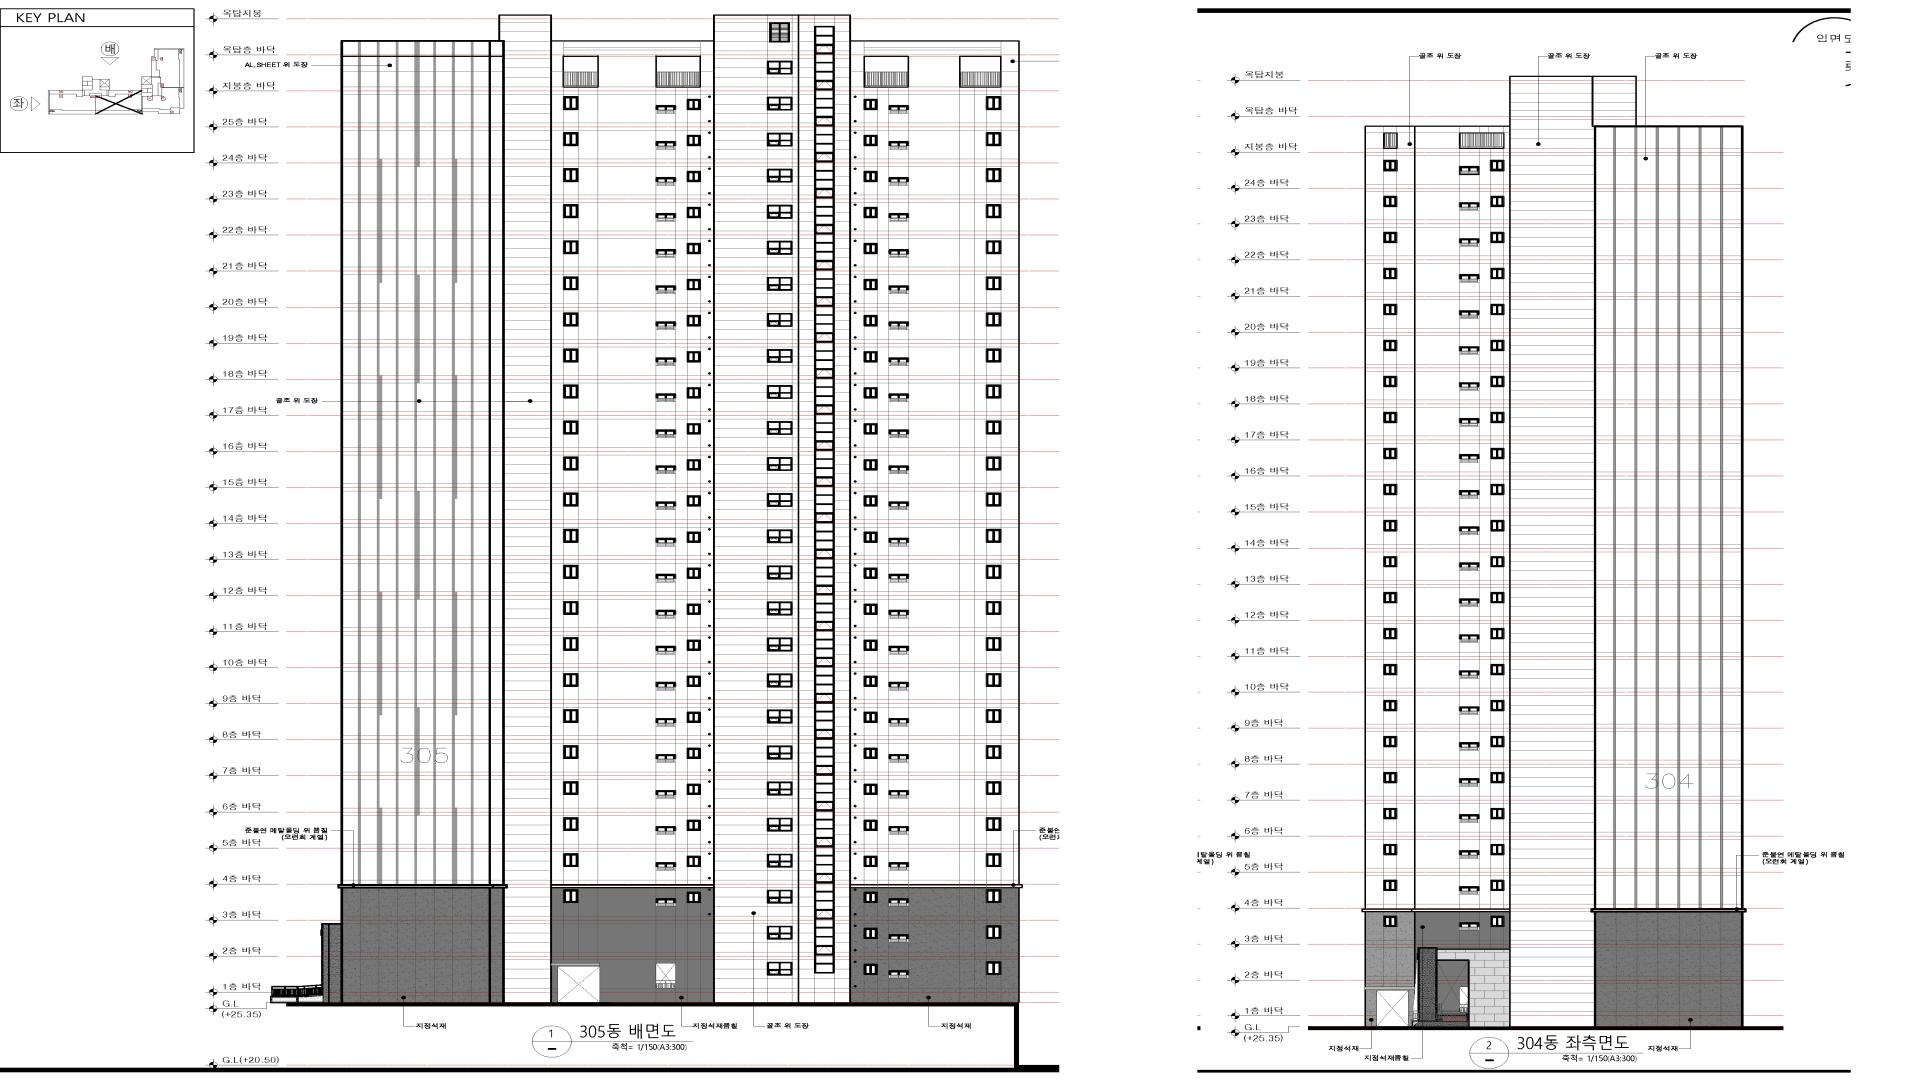door: (1437, 960, 1469, 1015), (558, 967, 600, 1002), (1377, 990, 1408, 1026)
wall: (322, 15, 1019, 1006), (1365, 75, 1743, 1030)
window: (655, 55, 702, 87), (864, 55, 910, 87), (959, 55, 1002, 87), (814, 918, 835, 973), (563, 55, 599, 87), (814, 269, 835, 306), (814, 522, 835, 559), (814, 54, 835, 90), (814, 90, 835, 125), (814, 125, 835, 161), (814, 198, 835, 233), (814, 233, 835, 269), (814, 306, 835, 342), (814, 342, 835, 377), (814, 377, 835, 413), (814, 414, 835, 450), (814, 450, 835, 485), (814, 559, 835, 595), (814, 595, 835, 630), (814, 630, 835, 666), (814, 666, 835, 702), (814, 703, 835, 738), (814, 810, 835, 845), (815, 485, 835, 522), (815, 161, 835, 196), (815, 738, 835, 774), (815, 774, 835, 810), (815, 847, 835, 882), (815, 882, 835, 918), (814, 26, 835, 53), (655, 964, 676, 988), (769, 22, 790, 42), (766, 926, 793, 940), (766, 709, 793, 724), (766, 601, 793, 616), (766, 96, 793, 111), (767, 961, 793, 976), (767, 853, 793, 868), (767, 818, 793, 832), (767, 421, 793, 435), (767, 313, 793, 327), (767, 204, 793, 219), (766, 890, 793, 903), (766, 782, 793, 795), (766, 746, 793, 760), (766, 674, 793, 687), (766, 566, 793, 579), (766, 493, 793, 506), (766, 458, 793, 471), (766, 133, 793, 146), (766, 61, 793, 74), (767, 638, 793, 651), (767, 530, 793, 543), (767, 385, 793, 398), (767, 349, 793, 363), (767, 277, 793, 290), (767, 241, 793, 255), (767, 169, 793, 182), (985, 889, 1002, 903), (985, 745, 1002, 760), (563, 889, 579, 903), (563, 781, 579, 795), (563, 745, 579, 760), (563, 673, 579, 687), (563, 637, 579, 651), (563, 564, 579, 579), (563, 529, 579, 543), (563, 492, 579, 506), (563, 456, 579, 471), (563, 421, 579, 435), (563, 348, 579, 363), (563, 313, 579, 327), (563, 276, 579, 290), (563, 240, 579, 255), (563, 167, 579, 182), (563, 132, 579, 146), (985, 781, 1001, 795), (985, 673, 1001, 687), (985, 637, 1001, 651), (985, 564, 1001, 579), (986, 529, 1002, 543), (985, 456, 1001, 471), (986, 348, 1002, 363), (986, 240, 1002, 255), (985, 132, 1001, 146), (563, 853, 579, 866), (563, 818, 579, 831), (563, 709, 579, 723), (563, 601, 579, 615), (563, 385, 579, 398), (563, 204, 579, 218), (563, 96, 579, 109), (985, 961, 1001, 975), (985, 926, 1001, 939), (986, 853, 1002, 866), (985, 818, 1001, 831), (986, 709, 1002, 723), (986, 601, 1002, 615), (985, 493, 1001, 506), (986, 421, 1002, 434), (985, 385, 1001, 398), (986, 313, 1002, 326), (985, 277, 1001, 290), (986, 204, 1002, 218), (985, 169, 1001, 182), (986, 96, 1002, 109), (655, 825, 676, 835), (655, 609, 676, 618), (655, 501, 676, 510), (655, 393, 676, 402), (655, 285, 676, 294), (655, 177, 676, 186), (889, 825, 910, 835), (887, 285, 909, 294), (889, 212, 910, 222), (887, 177, 909, 186), (1458, 166, 1480, 175), (1458, 202, 1480, 211), (1458, 310, 1480, 319), (1458, 454, 1480, 463), (1458, 562, 1480, 571), (1458, 670, 1480, 679), (1458, 814, 1480, 823), (1458, 922, 1480, 931), (889, 934, 909, 943), (889, 790, 909, 799), (889, 717, 909, 727), (889, 609, 909, 618), (889, 501, 909, 510), (889, 393, 909, 402), (687, 891, 702, 903), (687, 856, 702, 868), (687, 783, 702, 795), (687, 567, 702, 579), (687, 531, 702, 543), (687, 495, 702, 506), (687, 459, 702, 471), (687, 423, 702, 435), (687, 351, 702, 363), (687, 315, 702, 327), (687, 278, 702, 290), (687, 243, 702, 255), (687, 135, 702, 146), (687, 99, 702, 111), (864, 927, 878, 939), (864, 856, 878, 868), (864, 819, 878, 831), (864, 783, 878, 795), (864, 748, 878, 760), (864, 675, 878, 687), (864, 640, 878, 651), (864, 567, 878, 579), (864, 531, 878, 543), (864, 459, 878, 471), (864, 423, 878, 435), (864, 351, 878, 363), (864, 315, 878, 327), (864, 278, 878, 290), (864, 243, 878, 255), (864, 207, 878, 219), (864, 135, 878, 146), (864, 99, 878, 111), (1383, 160, 1398, 171), (1383, 195, 1398, 207), (1383, 232, 1398, 244), (1383, 268, 1398, 280), (1383, 303, 1398, 315), (1383, 340, 1398, 352), (1383, 376, 1398, 388), (1383, 411, 1398, 423), (1383, 484, 1398, 496), (1383, 520, 1398, 531), (1383, 628, 1398, 640), (1383, 663, 1398, 675), (1383, 736, 1398, 748), (1383, 771, 1398, 783), (1383, 844, 1398, 856), (1383, 880, 1398, 891), (1383, 915, 1398, 927), (1490, 915, 1505, 927), (1490, 880, 1505, 891), (1490, 844, 1505, 856), (1490, 771, 1505, 783), (1490, 736, 1505, 748), (1490, 628, 1505, 640), (1490, 520, 1505, 531), (1490, 411, 1505, 423), (1490, 376, 1505, 388), (1490, 303, 1505, 315), (1490, 268, 1505, 280), (1490, 195, 1505, 207), (1490, 160, 1505, 171), (655, 898, 676, 906), (655, 862, 676, 870), (655, 790, 676, 798), (655, 754, 676, 762), (655, 719, 676, 727), (655, 682, 676, 690), (655, 646, 676, 654), (655, 574, 676, 582), (655, 538, 676, 546), (655, 465, 676, 473), (655, 430, 676, 438), (655, 357, 676, 365), (655, 322, 676, 330), (655, 249, 676, 257), (655, 214, 676, 222), (655, 141, 676, 149), (655, 105, 676, 113), (887, 971, 909, 978), (887, 682, 909, 690), (887, 105, 909, 113), (1458, 239, 1480, 247), (1458, 347, 1480, 355), (1458, 382, 1480, 390), (1458, 418, 1480, 426), (1458, 491, 1480, 498), (1458, 526, 1480, 534), (1458, 599, 1480, 607), (1458, 634, 1480, 642), (1458, 707, 1480, 715), (1458, 742, 1480, 750), (1458, 778, 1480, 786), (1458, 851, 1480, 858), (889, 898, 909, 906), (889, 862, 909, 870), (889, 754, 909, 762), (889, 646, 909, 654), (889, 574, 909, 582), (889, 538, 909, 546), (889, 465, 909, 473), (889, 430, 909, 438), (889, 357, 909, 365), (889, 322, 909, 330), (889, 249, 909, 257), (889, 141, 909, 149), (687, 748, 700, 760), (687, 675, 700, 687), (687, 640, 700, 651), (687, 170, 700, 182), (864, 891, 877, 903), (1460, 274, 1480, 282), (1460, 886, 1480, 894), (687, 604, 702, 615), (687, 388, 702, 398), (687, 207, 702, 218), (864, 964, 878, 975), (864, 712, 878, 723), (864, 604, 878, 615), (864, 496, 878, 506), (864, 388, 878, 398), (864, 171, 878, 182), (1383, 448, 1398, 459), (1383, 556, 1398, 567), (1383, 592, 1398, 603), (1383, 700, 1398, 711), (1383, 808, 1398, 819), (1490, 808, 1505, 819), (1490, 700, 1505, 711), (1490, 665, 1505, 675), (1490, 592, 1505, 603), (1490, 556, 1505, 567), (1490, 484, 1505, 495), (1490, 448, 1505, 459), (1490, 340, 1505, 351), (1490, 232, 1505, 243), (687, 820, 700, 831), (687, 712, 700, 723)
